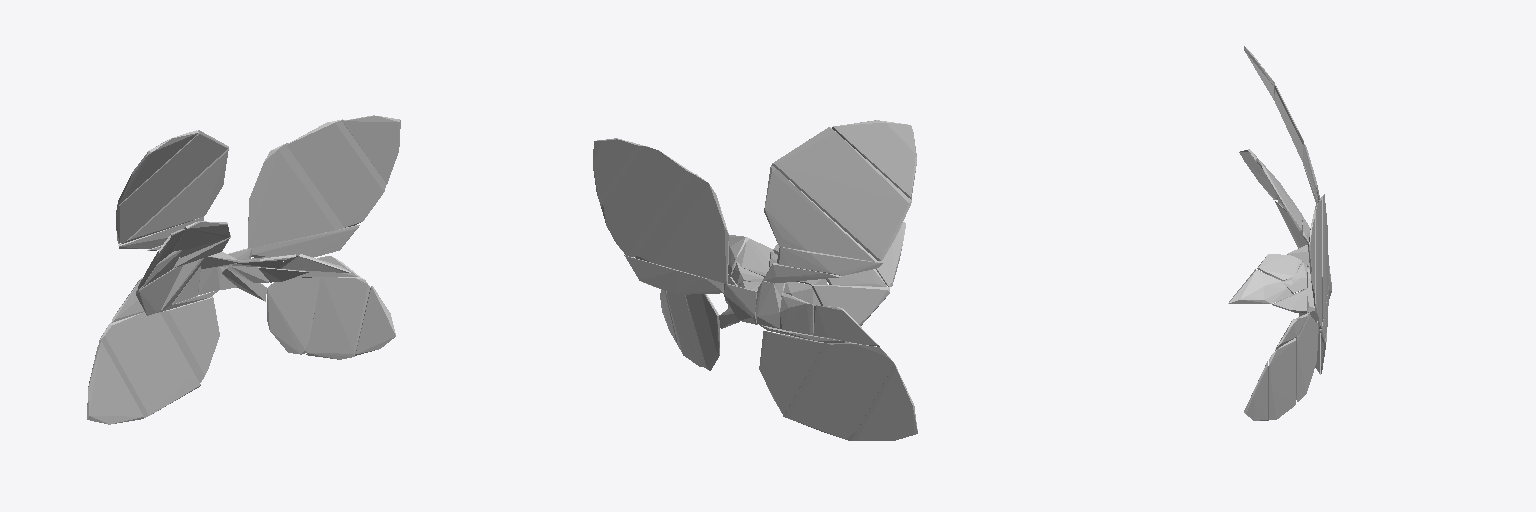
The model's file is Plantain_align_vhacd.obj.
3 renders of one model, left to right at view 1: azimuth 30°, elevation 25°; view 2: azimuth 150°, elevation 25°; view 3: azimuth 270°, elevation 25°, orthographic.
Visible parts, largest first — view 1: convex_1, convex_11, convex_13, convex_6, convex_16, convex_10, convex_3, convex_5, convex_2, convex_14, convex_25, convex_18 (+7 smaller); view 2: convex_6, convex_1, convex_11, convex_13, convex_5, convex_7, convex_3, convex_2, convex_14, convex_25, convex_10, convex_21 (+10 smaller); view 3: convex_16, convex_10, convex_30, convex_13, convex_29, convex_18, convex_24, convex_11, convex_6.
Part boxes in pixels (x1,y1,x2,y2): convex_1: (99,312,200,417); convex_11: (248,143,344,248); convex_13: (287,119,386,227); convex_6: (116,130,227,243); convex_16: (306,277,370,359); convex_10: (267,275,321,354); convex_3: (160,296,219,382); convex_5: (120,146,228,244); convex_2: (87,341,143,424); convex_14: (342,115,400,183); convex_25: (251,225,359,257); convex_18: (355,286,395,355); convex_6: (772,127,911,260); convex_1: (783,341,894,440); convex_11: (636,174,728,283); convex_13: (601,146,693,257); convex_5: (764,165,877,261); convex_7: (832,120,916,199); convex_3: (759,331,823,415); convex_2: (852,364,917,440); convex_14: (593,138,643,206); convex_25: (624,255,723,294); convex_10: (686,294,719,370); convex_21: (811,285,889,325); convex_16: (1268,338,1295,420); convex_10: (1296,313,1317,401); convex_30: (1228,269,1292,303); convex_13: (1315,197,1321,328); convex_29: (1257,254,1302,280); convex_18: (1244,361,1267,420); convex_24: (1256,158,1302,232); convex_11: (1322,194,1328,321); convex_6: (1275,85,1303,163).
Bounding box in the file's own units: 0.1751 × 0.1576 × 0.0495.